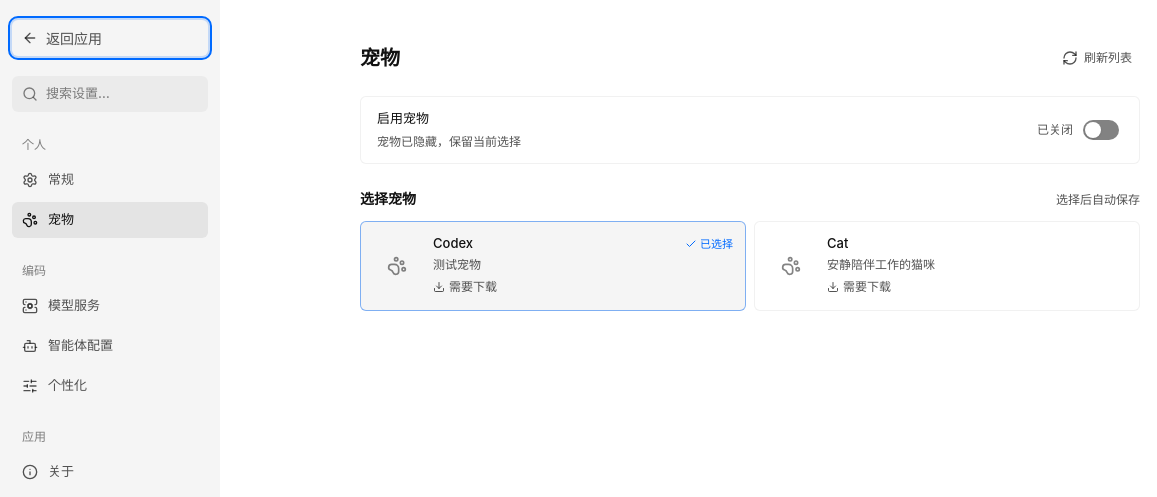
Test: 桌面宠物控件 › 关闭时保留选择，键盘开启并显示清晰状态，菜单使用宠物名称
Expected: the button "宠物" is shown, [12,202,208,238]
Click the radio button labelled "Cat 安静陪伴工作的猫咪 需要下载" at (881, 264), box [754,221,1140,311]
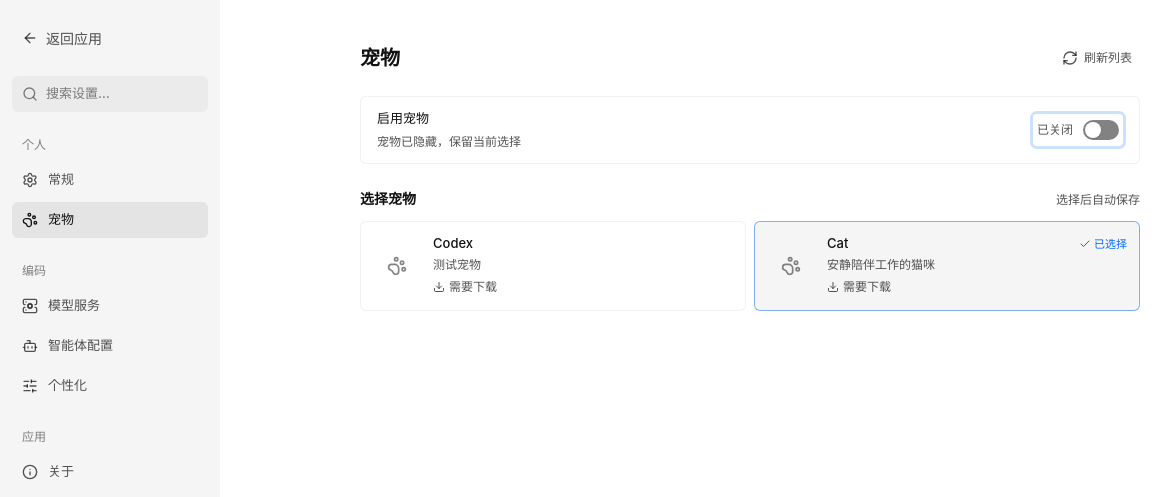
Expected: the switch named "启用宠物" is not checked, [1033,114,1123,146]
Expected: the radio button labelled "Cat 已选择 安静陪伴工作的猫咪 需要下载" is checked, [754,221,1140,311]
Type keys " "
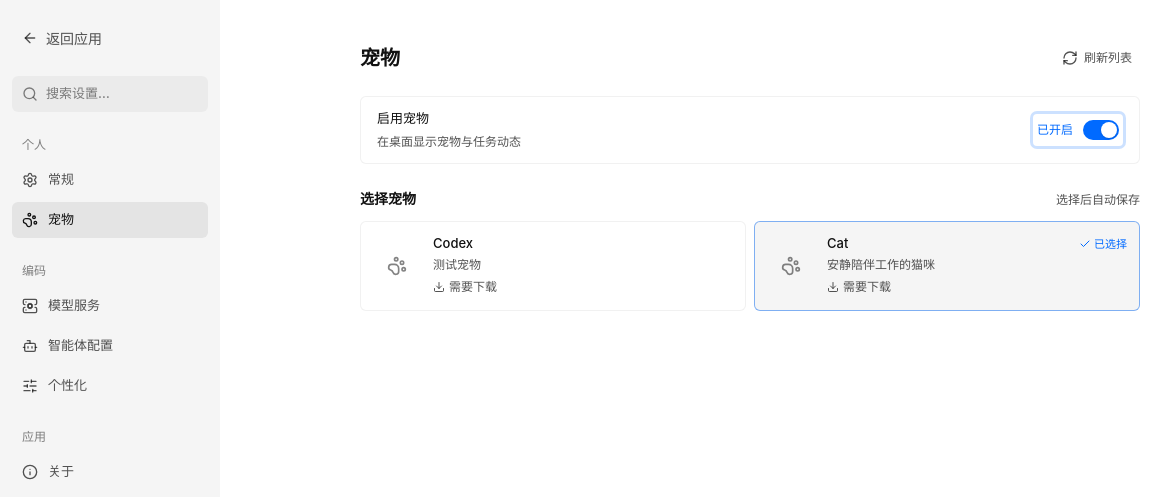
Expected: the switch named "启用宠物" is checked
Expected: the switch named "启用宠物" reads "已开启"
Click the switch named "启用宠物" at (1078, 130), box [1033,114,1123,146]
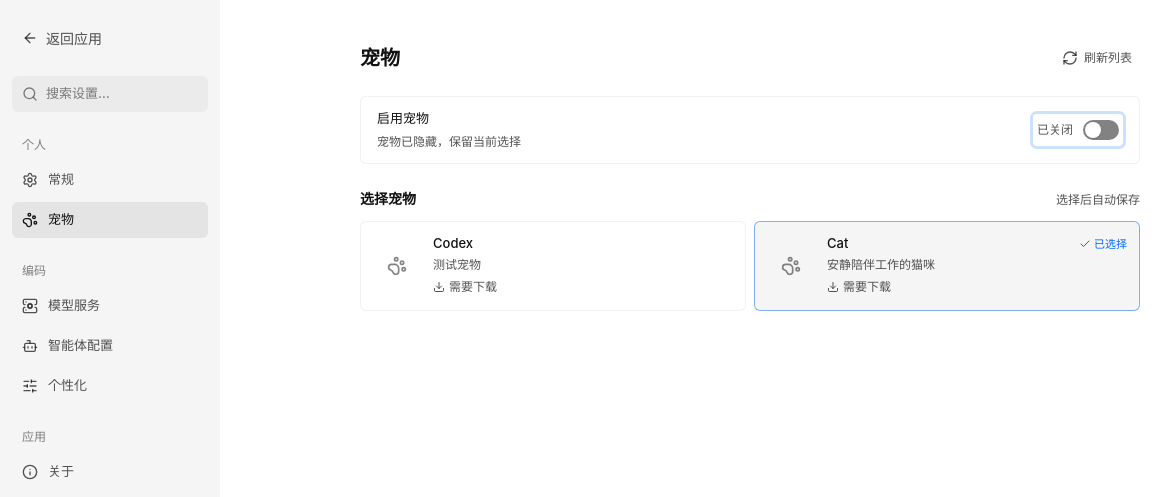
Expected: the radio button labelled "Cat 已选择 安静陪伴工作的猫咪 需要下载" is checked, [754,221,1140,311]
Expected: the switch named "启用宠物" reads "已关闭", [1033,114,1123,146]
